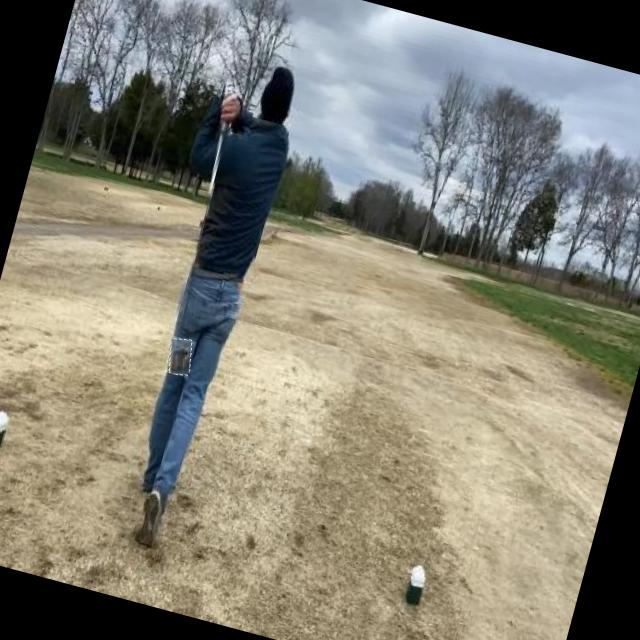club head: (164, 336, 196, 378)
